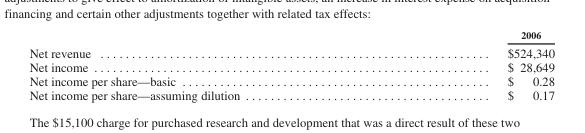table: (28, 29, 553, 101)
table column: (28, 29, 373, 101), (373, 29, 553, 101)
table column header: (28, 29, 553, 43)
table row: (28, 43, 553, 60), (28, 29, 553, 43), (28, 73, 553, 87), (28, 87, 553, 101), (28, 60, 553, 73)
